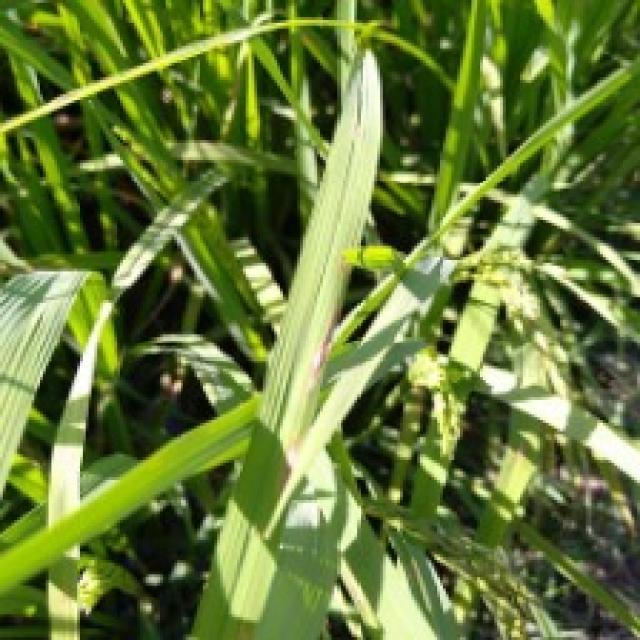Rice___Brown_Spot: (185, 51, 387, 637)
